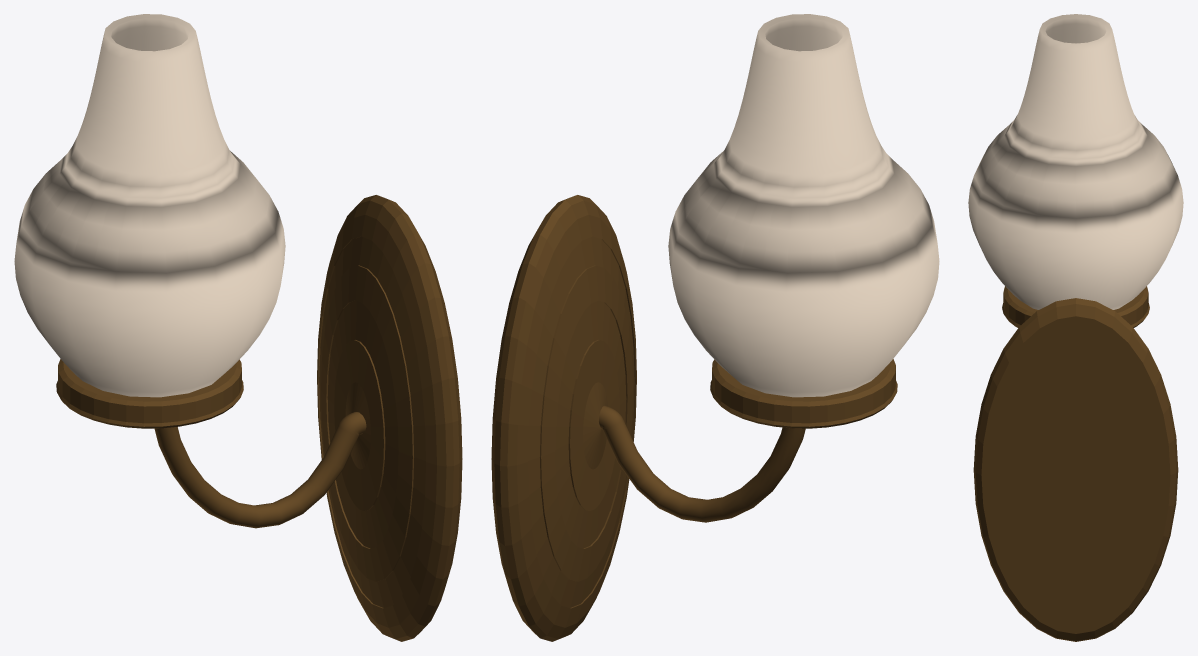
The model's file is DTYDFittings.fbx_WallLight.fbx.
The picture shows the model from 3 angles, left to right: view 1: azimuth 30°, elevation 25°; view 2: azimuth 150°, elevation 25°; view 3: azimuth 270°, elevation 25°; orthographic projection. The views are drawn at different scales.
Visible parts, largest first — view 1: BézierCurve.060, Sphere.008, BézierCurve.058, Sphere.007; view 2: BézierCurve.060, Sphere.008, BézierCurve.058, Sphere.007; view 3: Sphere.008, BézierCurve.060, Sphere.007.
Part boxes in pixels (box(x1,y1,x2,y2)): BézierCurve.060: box(14, 14, 285, 397); Sphere.008: box(317, 195, 462, 641); BézierCurve.058: box(154, 412, 366, 528); Sphere.007: box(56, 359, 243, 428); BézierCurve.060: box(668, 14, 939, 397); Sphere.008: box(491, 195, 636, 641); BézierCurve.058: box(599, 405, 805, 522); Sphere.007: box(710, 359, 897, 428); Sphere.008: box(973, 298, 1178, 641); BézierCurve.060: box(968, 14, 1183, 309); Sphere.007: box(1002, 286, 1149, 327).
Size of the model in its own units: 140 by 238 by 89.25.
